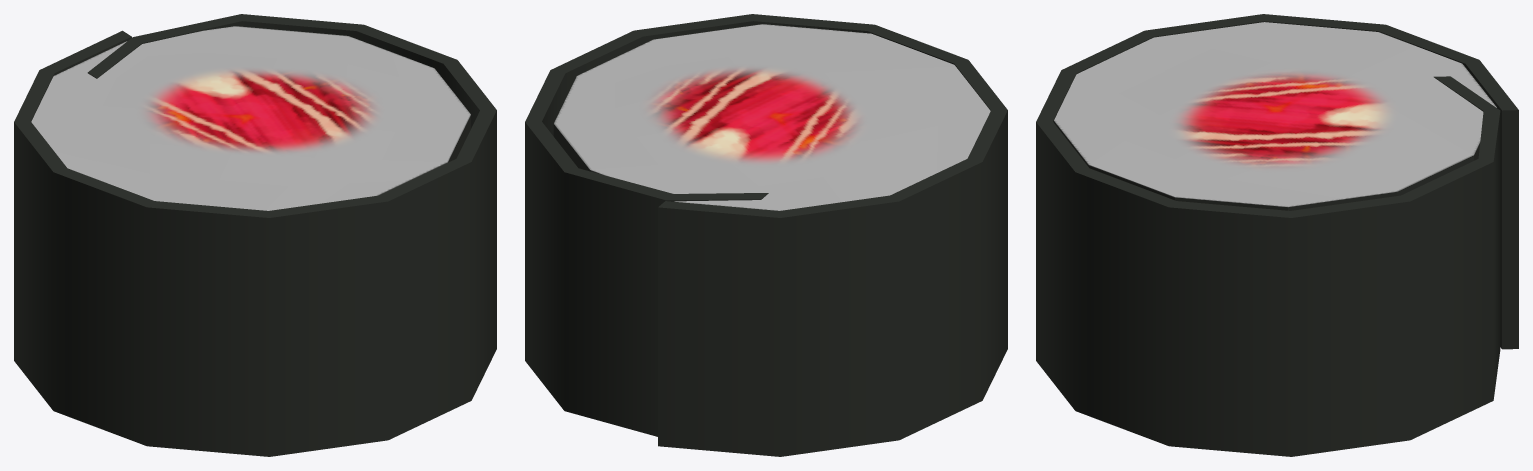
The model's file is Somon Hosomakisa_K.fbx.
The picture shows the model from 3 angles, left to right: view 1: azimuth 30°, elevation 25°; view 2: azimuth 150°, elevation 25°; view 3: azimuth 270°, elevation 25°; orthographic projection.
Parts seen in each view (by area): view 1: Somon Hosomakisa; view 2: Somon Hosomakisa; view 3: Somon Hosomakisa.
Part boxes in pixels (x1,y1,x2,y2): Somon Hosomakisa: (14,14,496,456); Somon Hosomakisa: (525,14,1007,456); Somon Hosomakisa: (1036,14,1518,456).
Bounding box in the file's own units: 4.95 × 2.72 × 4.95.
